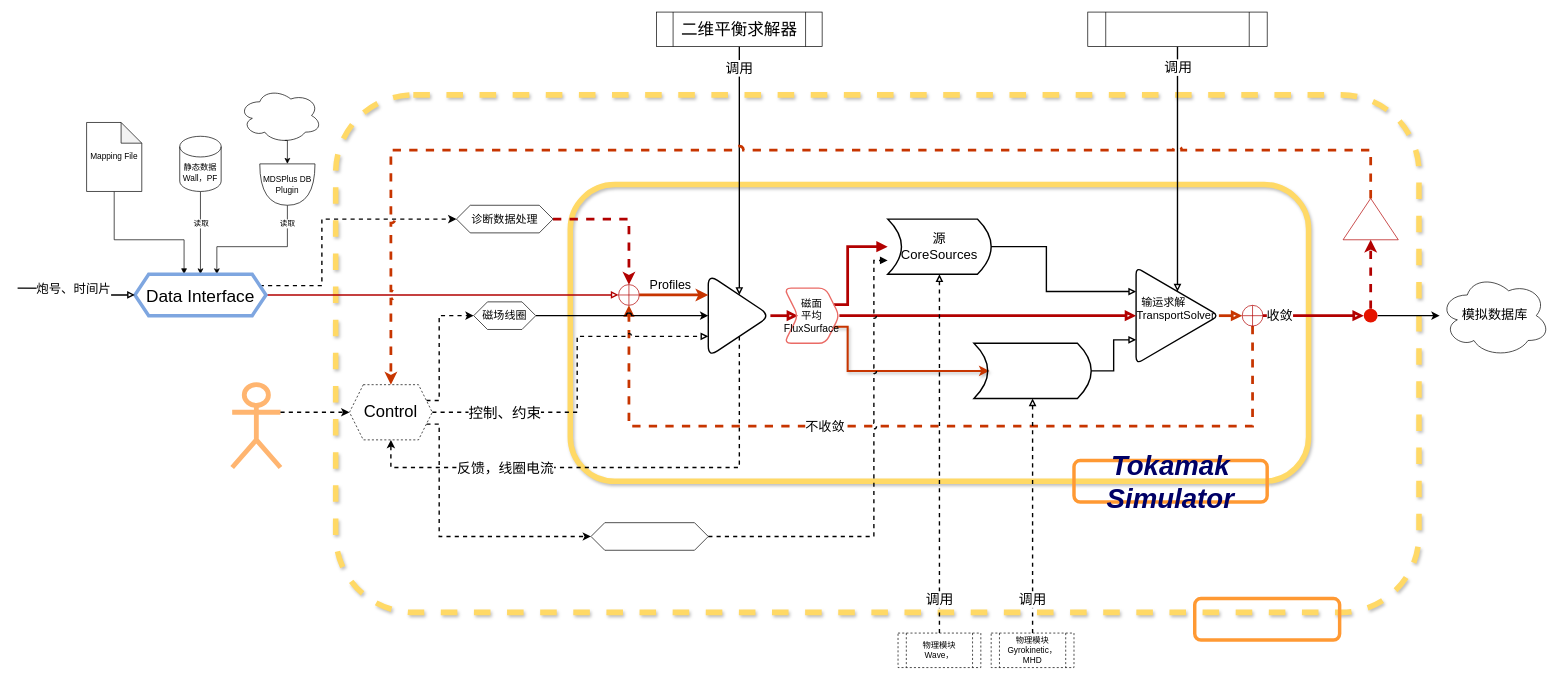
Some shapes in this 1562 by 680 pixel diagram are drawn without their labels. The centre of each missing label's shape, as x and y in pixels:
Fy Tok: [1267,619]
Pulse Schedule: [256,426]
t=t+1: [1370,219]
一维输运求解器: [1177,29]
实验数据库 EAST: [280,115]
平衡求解器 Equilibrium: [739,315]
辅助系统 RF，NBI。。。: [649,536]
输运系数 CoreTransport: [1032,370]
